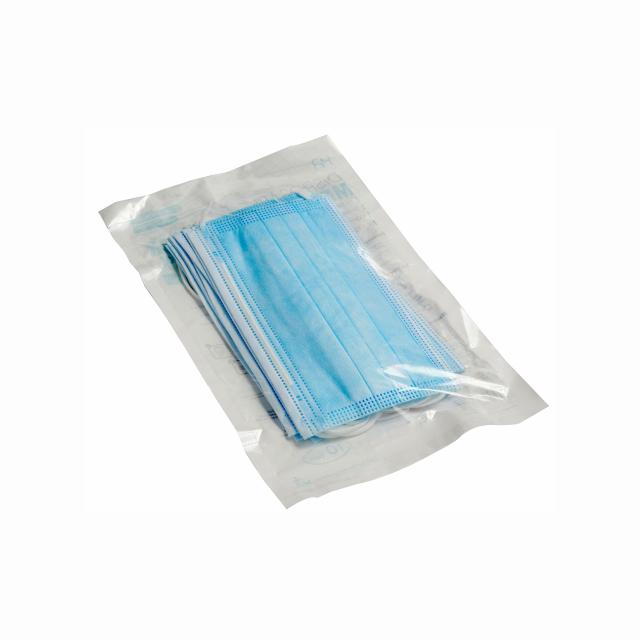non-organic waste: (163, 200, 457, 436)
